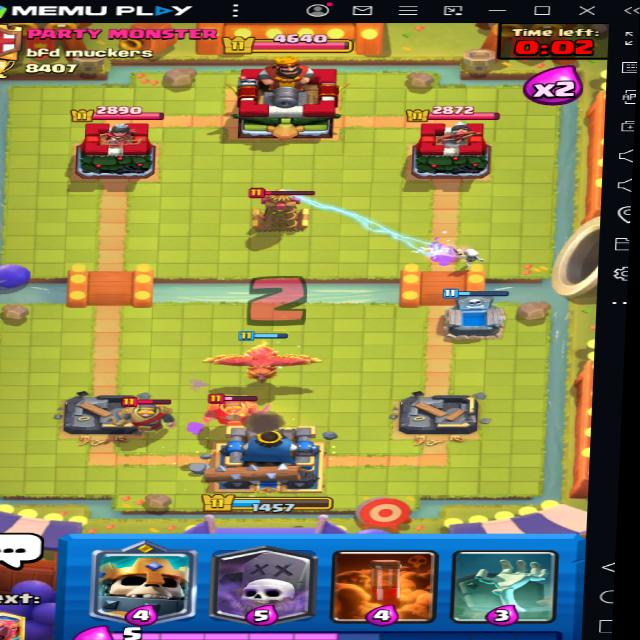knight: (83, 386, 179, 442), (203, 387, 267, 442)
tesla: (238, 181, 326, 243)
